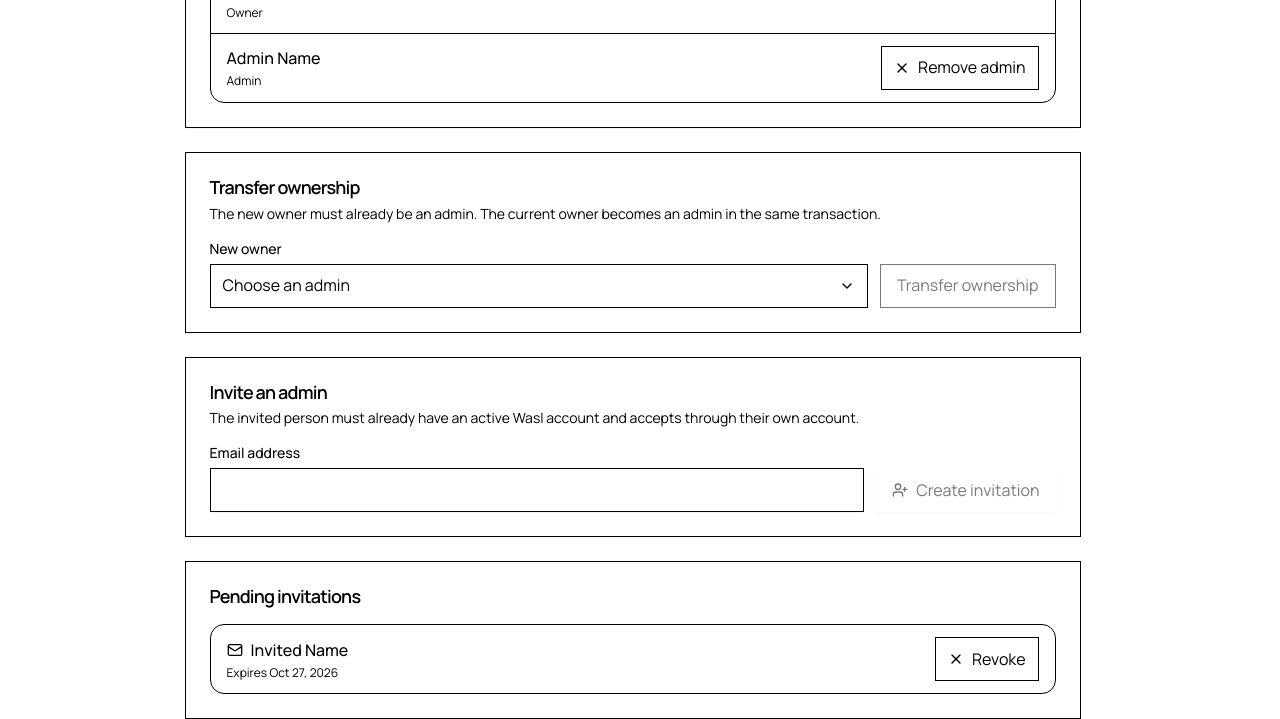
Test: OrganizationManagePage › creates an invitation and shows the single-use acceptance link
(page scrolled)
Step 1. Type "invited@example.test" into the field labelled "Email address" → point(537, 490), box [210,468,864,512]
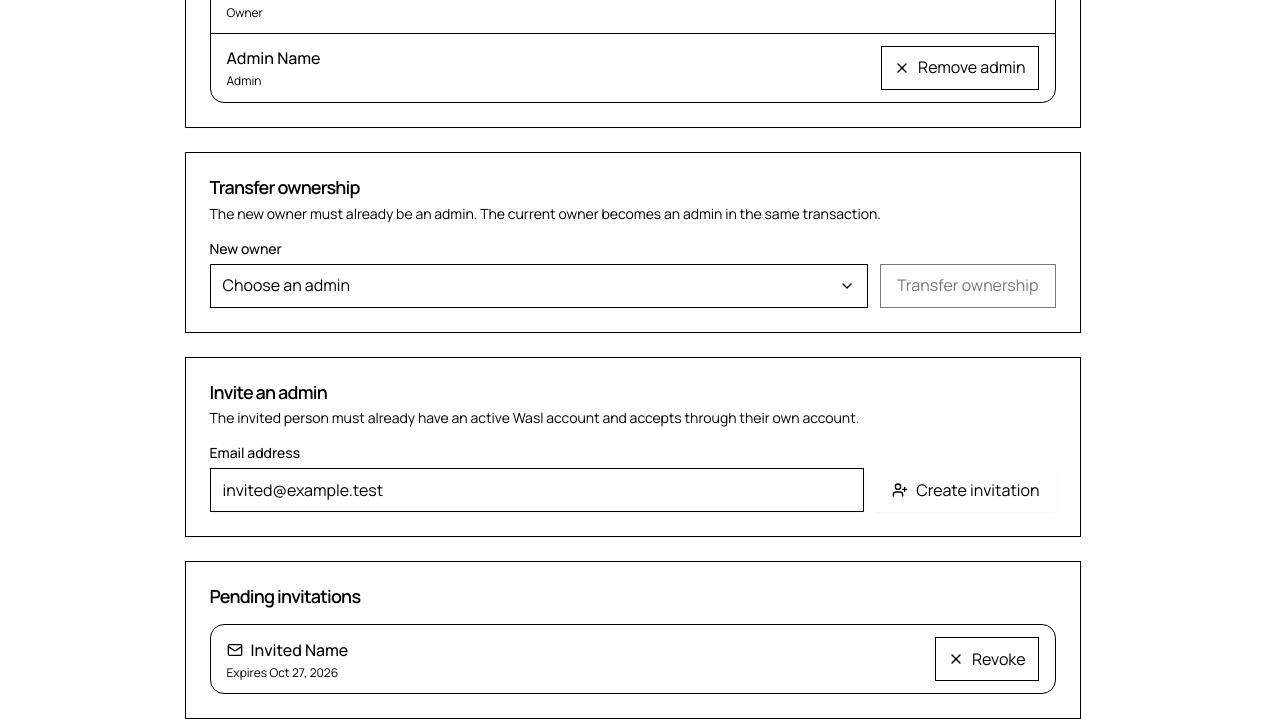
Step 2. Click the button "Create invitation" → point(966, 490), box [876,468,1056,512]
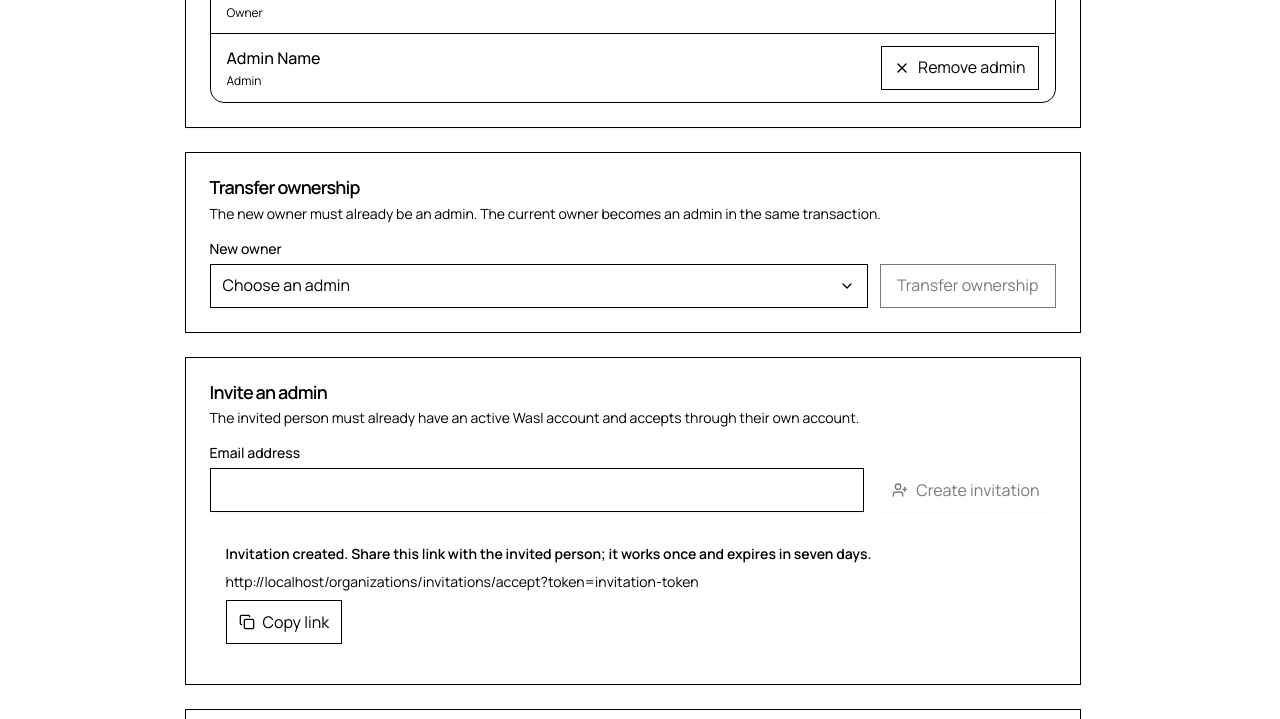
Expected: the text "/organizations/invitations/accept?token=invitation-token" is shown, [226,572,698,591]
